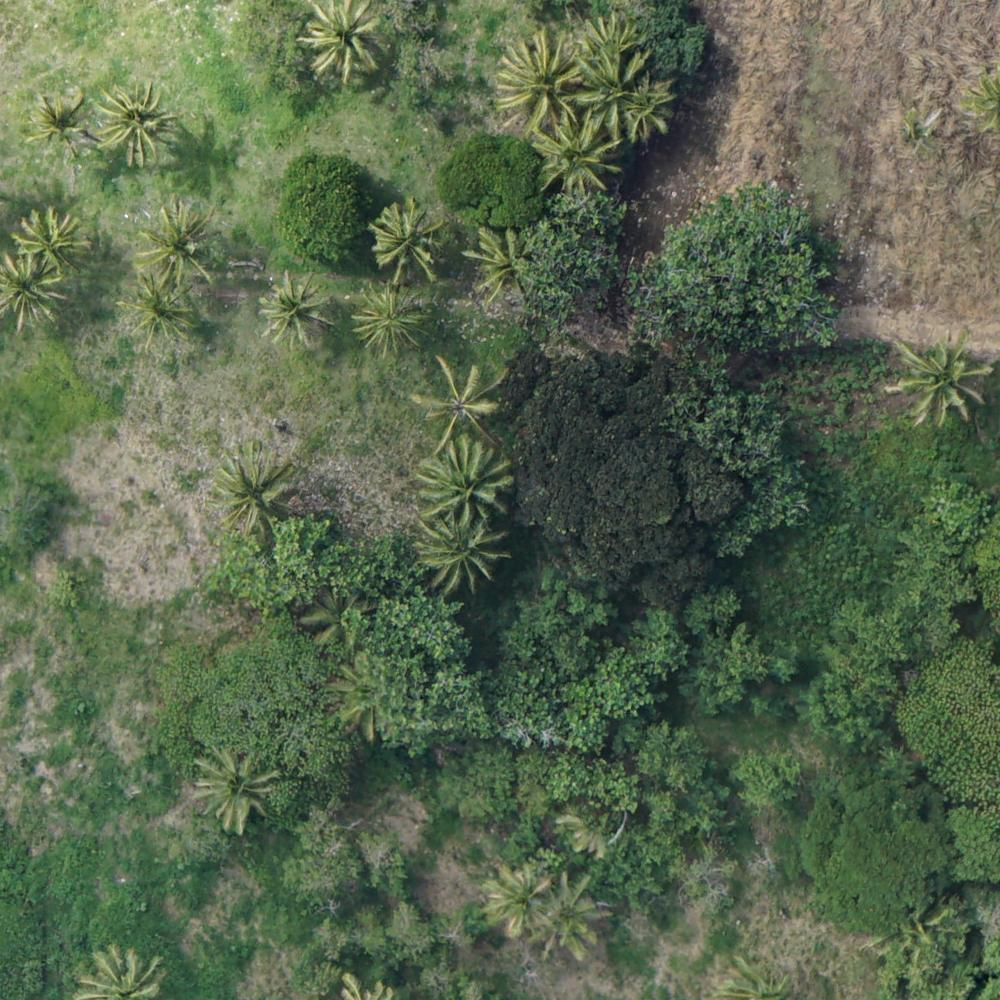Palm: (888, 325, 988, 426), (416, 433, 515, 524), (208, 442, 301, 538), (493, 30, 584, 124), (408, 356, 502, 438), (565, 45, 649, 131), (530, 112, 616, 195), (422, 516, 509, 593), (92, 82, 173, 163), (190, 748, 273, 825), (535, 878, 608, 963), (119, 276, 204, 348), (301, 1, 381, 76), (137, 207, 216, 282), (14, 202, 93, 273), (463, 223, 534, 302), (1, 253, 68, 335), (370, 202, 443, 277), (348, 283, 422, 352), (261, 277, 330, 348), (30, 86, 96, 157), (488, 869, 552, 936), (616, 72, 676, 143)
